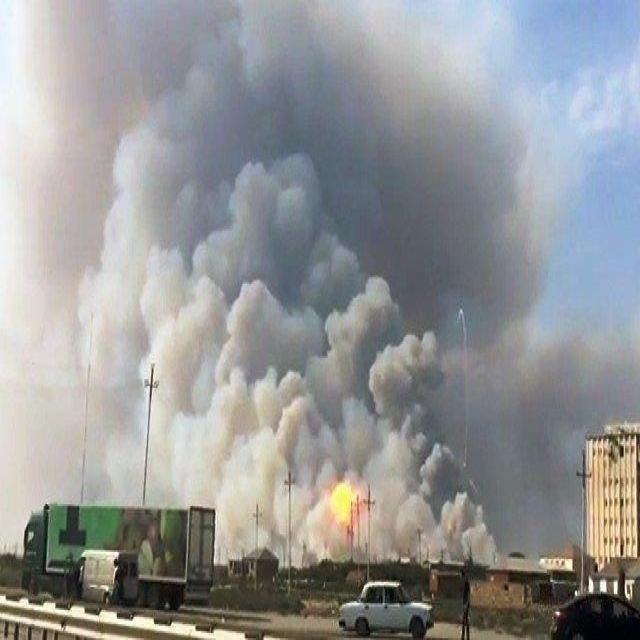Smoke: (1, 1, 640, 572)
